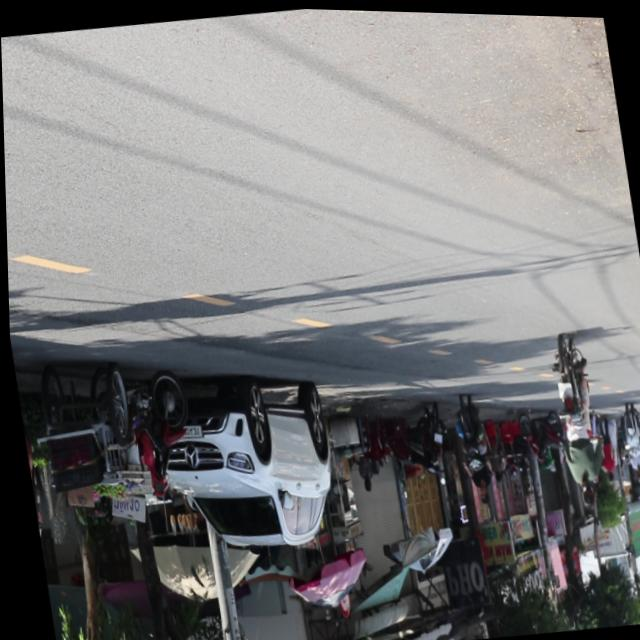licenseplate: (542, 329, 608, 510)
motorcyclist: (575, 477, 593, 508)
nohelmet: (555, 378, 571, 398)
